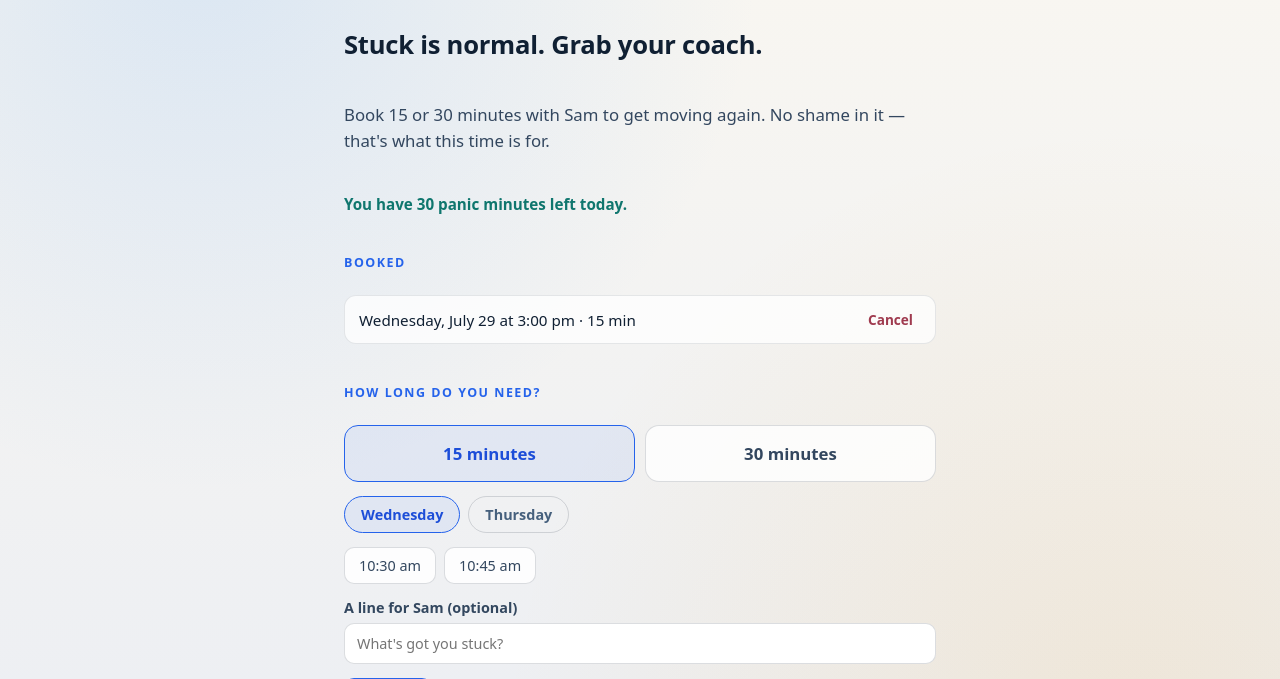
PanicPage booking › renders 409 suggestions as one-tap choices that book directly
This screenshot has width=1280, height=679.
Click the button "10:30 am" at (390, 566), box [344, 547, 436, 584]
(page scrolled)
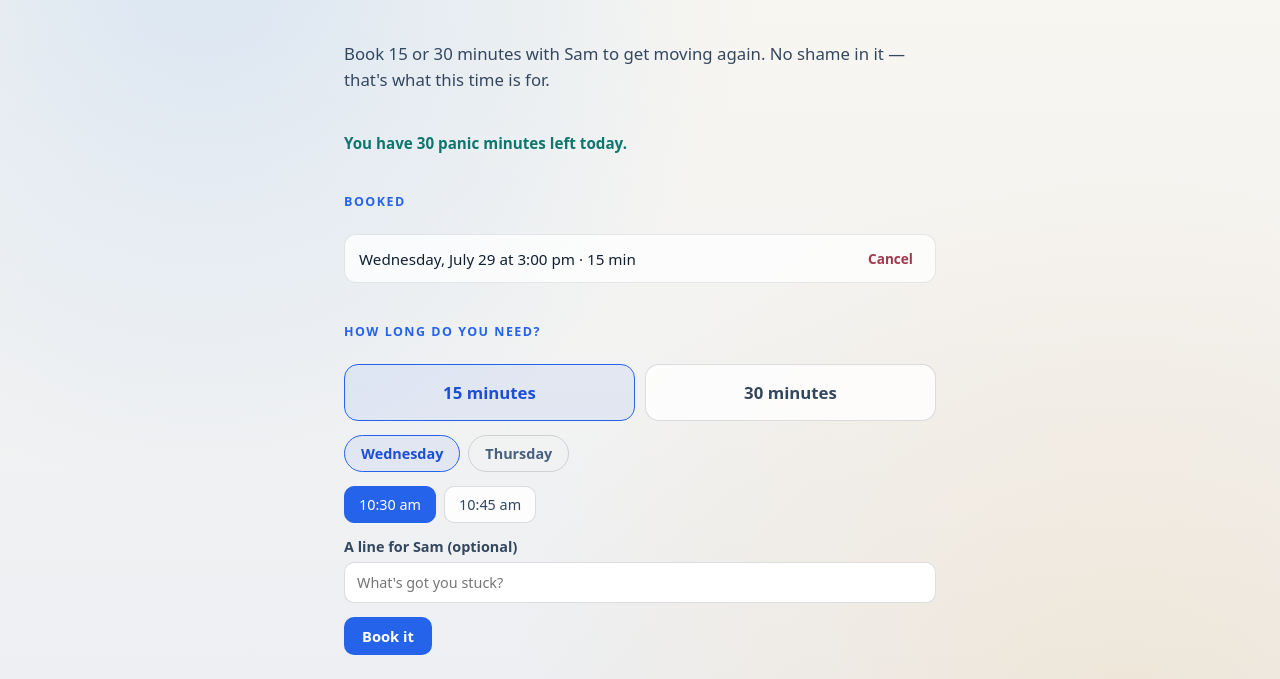
Click the button "Book it" at (388, 636), box [344, 617, 432, 655]
(page scrolled)
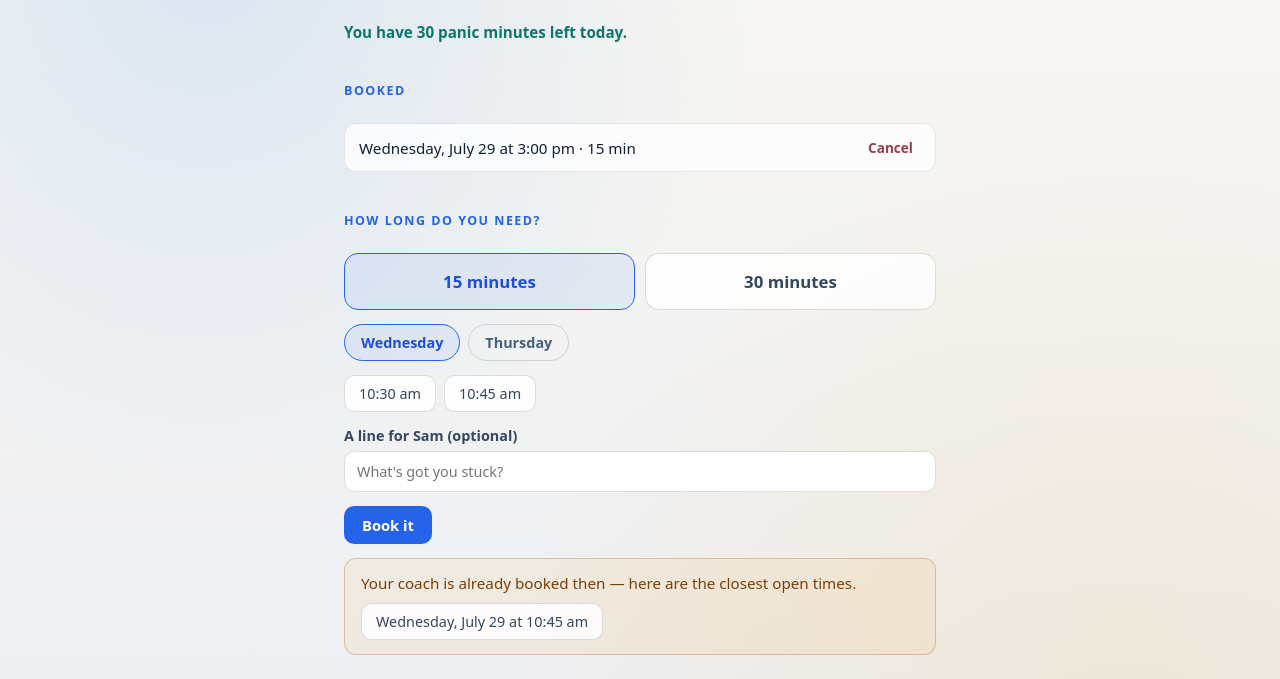
Expected: the message shows "already booked then", [361, 573, 856, 593]
Click the button "Wednesday, July 29 at 10:45 am" at (482, 622), box [361, 603, 603, 640]
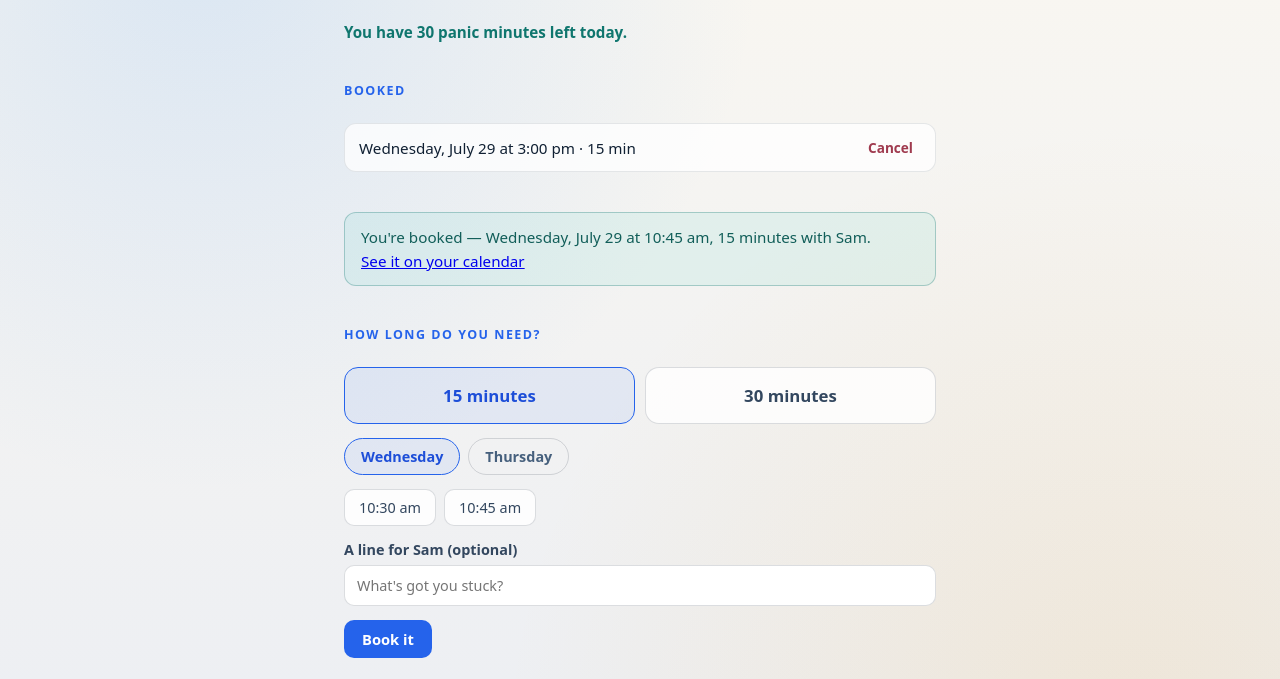
Expected: the text "You're booked — Wednesday, July 29 at 10:45 am" is shown, [361, 227, 919, 247]
